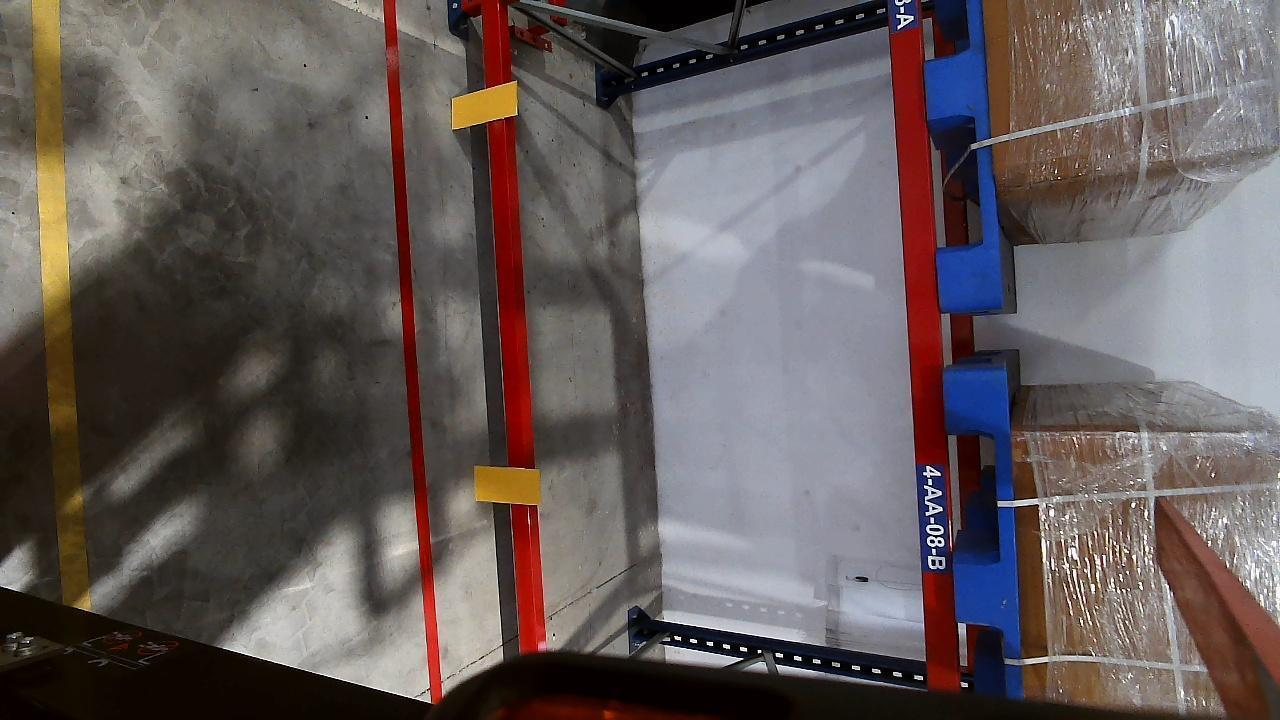red_line: (374, 0, 453, 682)
yellow_line: (23, 0, 94, 607)
